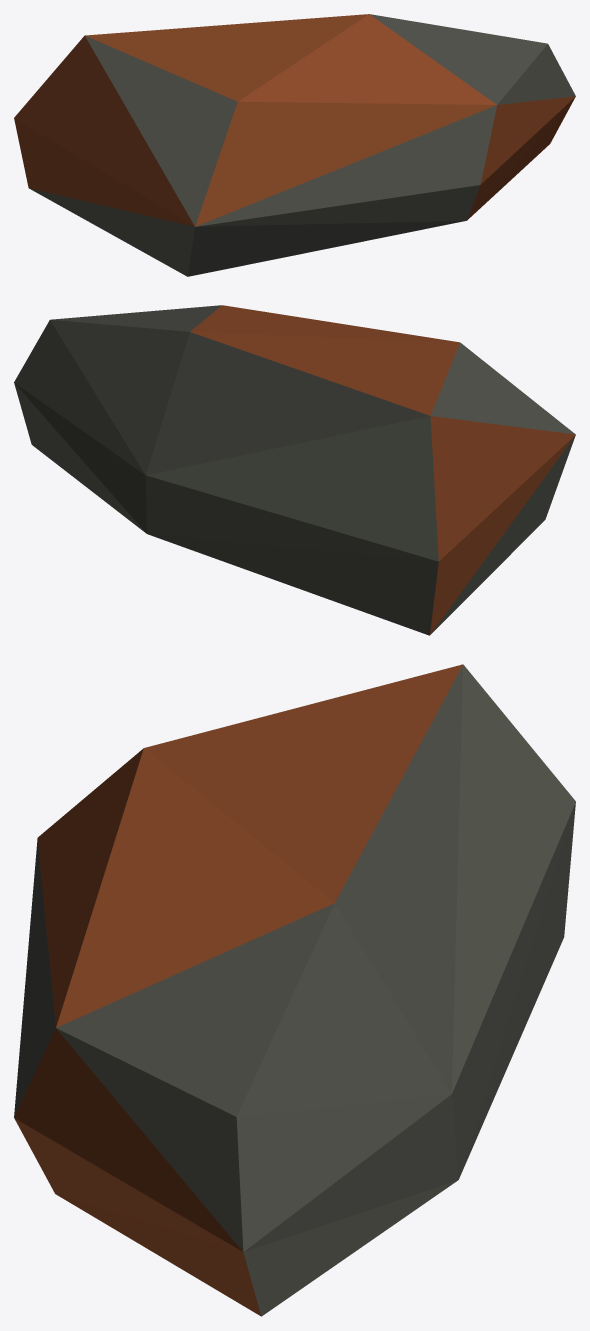
Rendered from ore_copper_v02_lod2.glb.
3 renders of one model, top to bottom at view 1: azimuth 30°, elevation 25°; view 2: azimuth 150°, elevation 25°; view 3: azimuth 270°, elevation 25°, orthographic. The views are drawn at different scales.
Parts seen in each view (by area): view 1: ore_copper_v02_lod2; view 2: ore_copper_v02_lod2; view 3: ore_copper_v02_lod2.
Boxes of the visible parts, x1,y1,x2,y2 form: ore_copper_v02_lod2: (14, 14, 575, 276); ore_copper_v02_lod2: (14, 305, 575, 635); ore_copper_v02_lod2: (14, 664, 575, 1316).
Size of the model in its own units: 2.44 by 0.8299 by 1.42.
